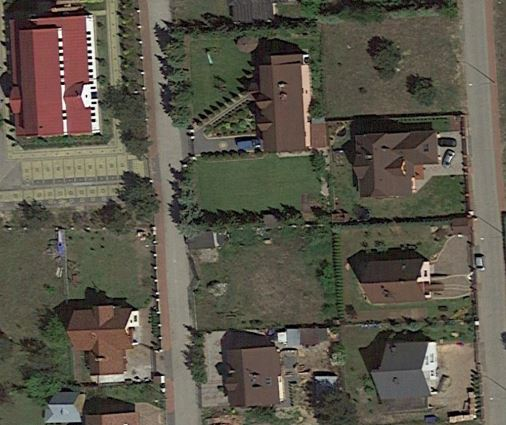church: (3, 10, 105, 143)
family house: (252, 48, 329, 154), (350, 127, 443, 203), (63, 302, 146, 386), (368, 338, 443, 407), (219, 344, 290, 411), (358, 256, 436, 303)
